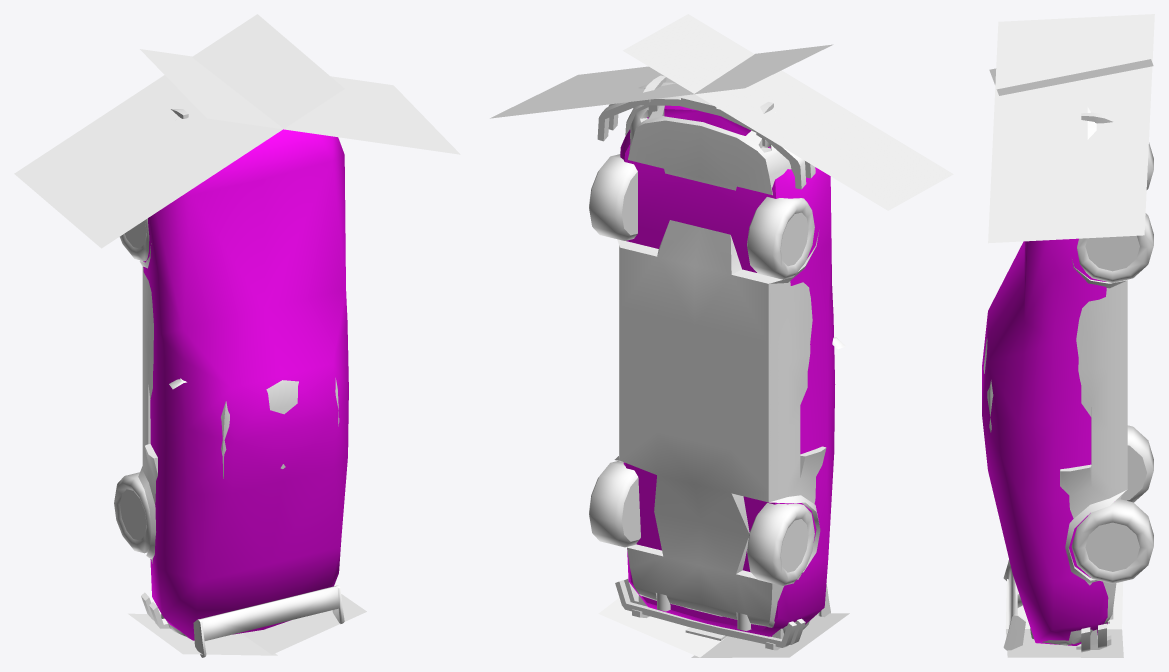
File: Mustang.glb
The picture shows the model from 3 angles, left to right: view 1: azimuth 30°, elevation 25°; view 2: azimuth 150°, elevation 25°; view 3: azimuth 270°, elevation 25°; orthographic projection. The views are drawn at different scales.
Parts seen in each view (by area): view 1: MustangProxy, MustangFrontLights, Mustang, MustangRearLights, MustangSpoiler1, MustangWheel_LB, MustangWheel_LF; view 2: Mustang, MustangFrontLights, MustangProxy, MustangWheel_LB, MustangWheel_LF, MustangRearLights, MustangWheel_RB, MustangWheel_RF, MustangFrontBumper2, MustangRearBumper2; view 3: MustangFrontLights, MustangProxy, Mustang, MustangWheel_RB, MustangWheel_RF, MustangRearLights, MustangWheel_LB, MustangSpoiler1, MustangRearBumper2, MustangFrontBumper2.
Part boxes in pixels (x1,y1,x2,y2): MustangProxy: [143, 129, 348, 640]; MustangFrontLights: [14, 14, 460, 248]; Mustang: [138, 243, 339, 637]; MustangRearLights: [128, 594, 366, 655]; MustangSpoiler1: [193, 585, 344, 657]; MustangWheel_LB: [114, 472, 151, 553]; MustangWheel_LF: [120, 218, 149, 261]; Mustang: [614, 105, 845, 630]; MustangFrontLights: [490, 14, 953, 210]; MustangProxy: [620, 105, 835, 636]; MustangWheel_LB: [747, 503, 814, 585]; MustangWheel_LF: [747, 197, 814, 279]; MustangRearLights: [598, 593, 849, 657]; MustangWheel_RB: [589, 461, 640, 547]; MustangWheel_RF: [589, 154, 637, 240]; MustangFrontBumper2: [597, 75, 815, 189]; MustangRearBumper2: [615, 579, 805, 650]; MustangFrontLights: [988, 14, 1154, 243]; MustangProxy: [982, 238, 1108, 645]; Mustang: [983, 260, 1127, 645]; MustangWheel_RB: [1071, 498, 1153, 583]; MustangWheel_RF: [1077, 213, 1153, 283]; MustangRearLights: [1005, 562, 1123, 657]; MustangWheel_LB: [1120, 425, 1153, 502]; MustangSpoiler1: [1003, 559, 1025, 650]; MustangRearBumper2: [1076, 620, 1111, 652]; MustangFrontBumper2: [1081, 107, 1113, 139].
Bounding box in the file's own units: 3.89 × 5.65 × 1.49.
